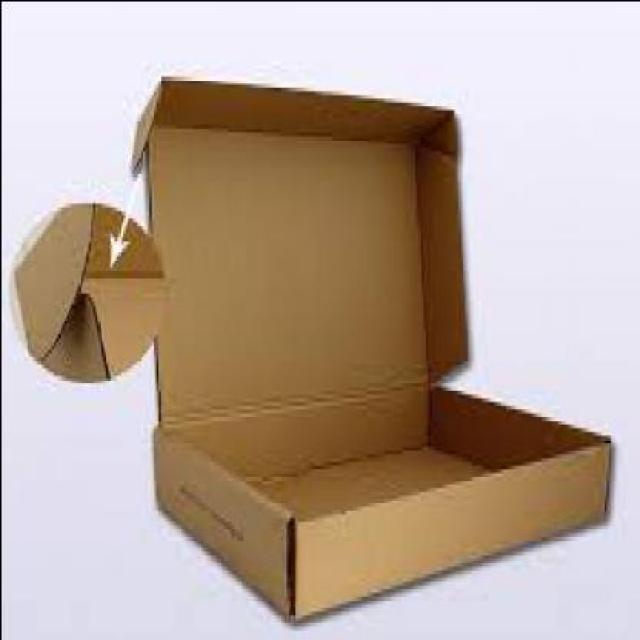CARDBOARD: (126, 70, 609, 622), (13, 202, 161, 375)
